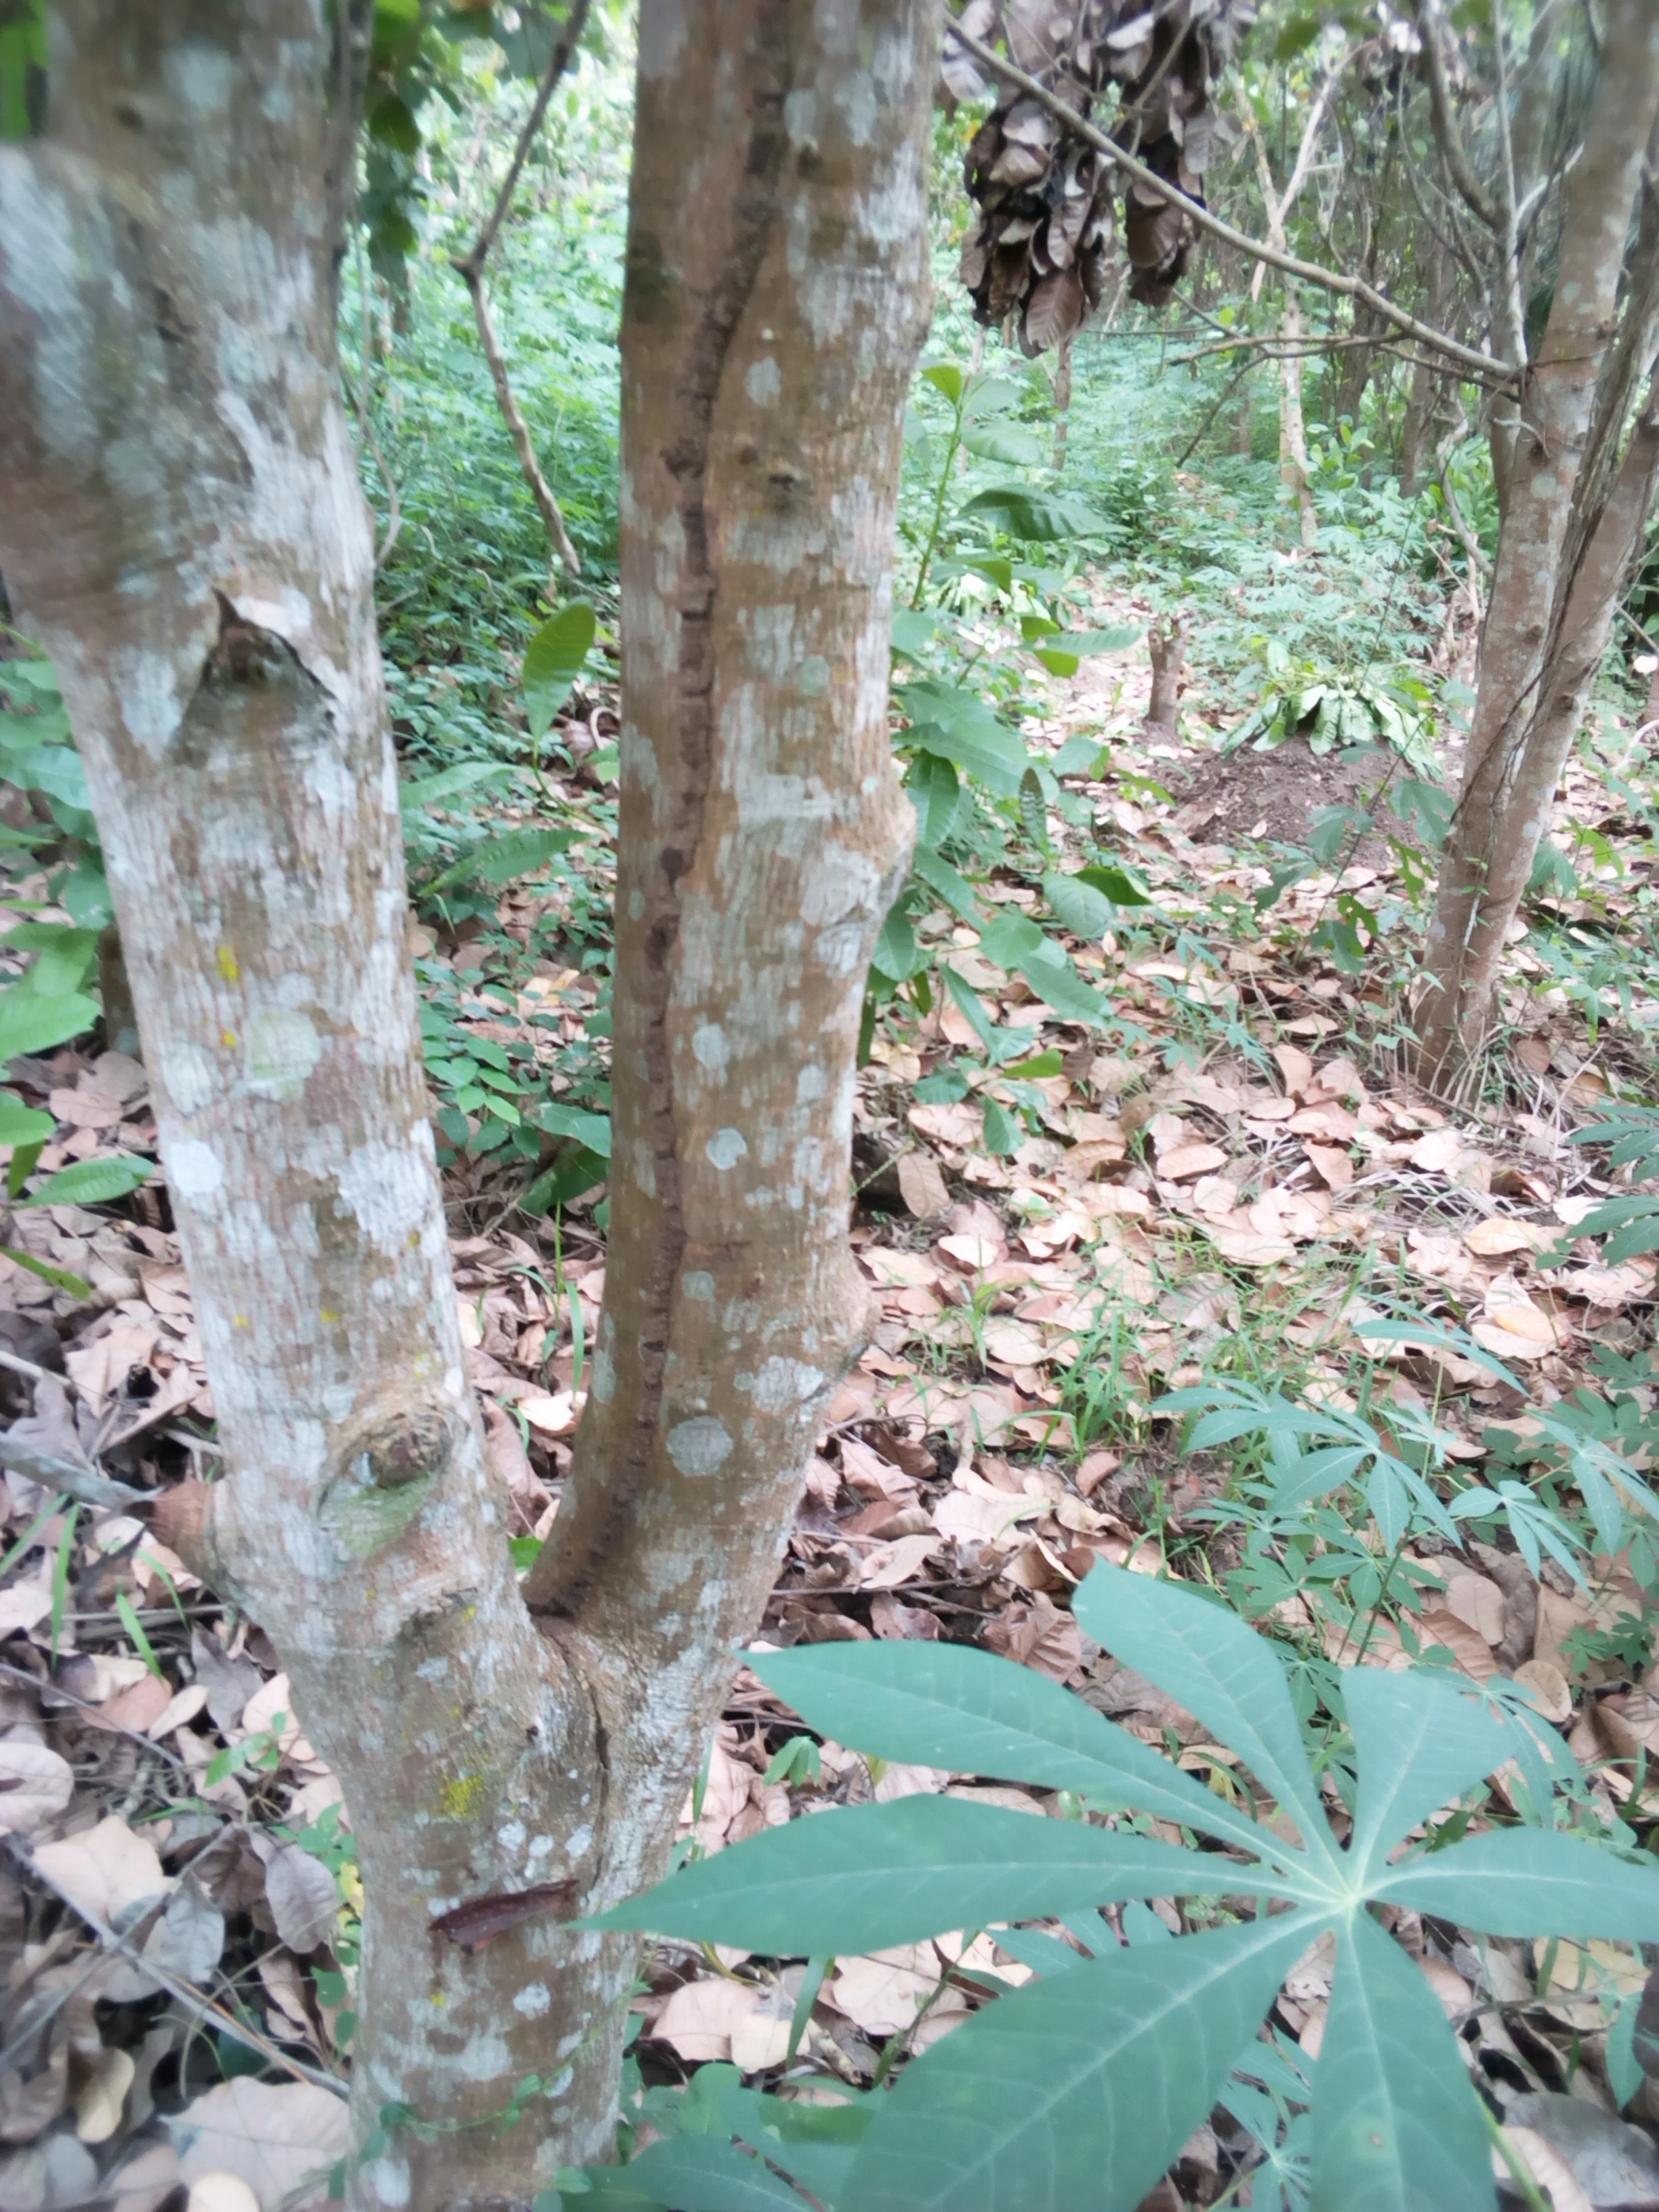Termites: (575, 38, 798, 1611)
